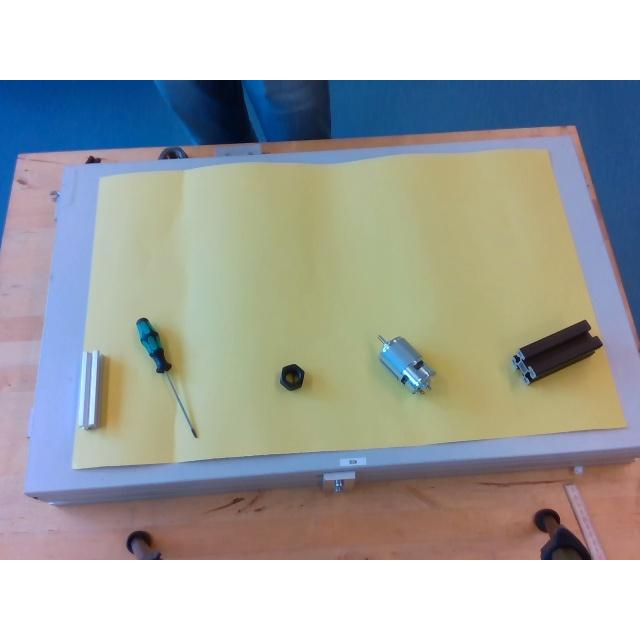F20_20_G: (78, 349, 102, 427)
M20: (280, 363, 304, 389)
Motor2: (378, 335, 434, 393)
S40_40_B: (513, 318, 603, 382)
Screwdriver: (136, 318, 198, 434)
